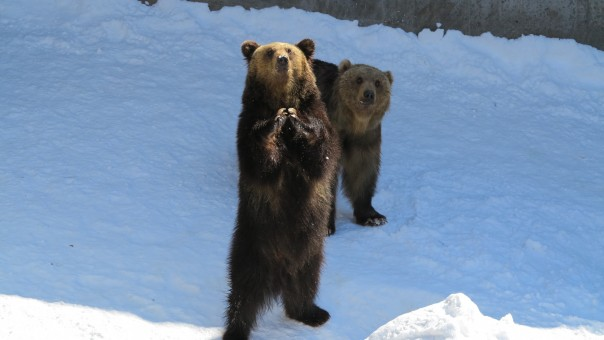bear: (223, 40, 338, 340), (294, 56, 396, 228)
